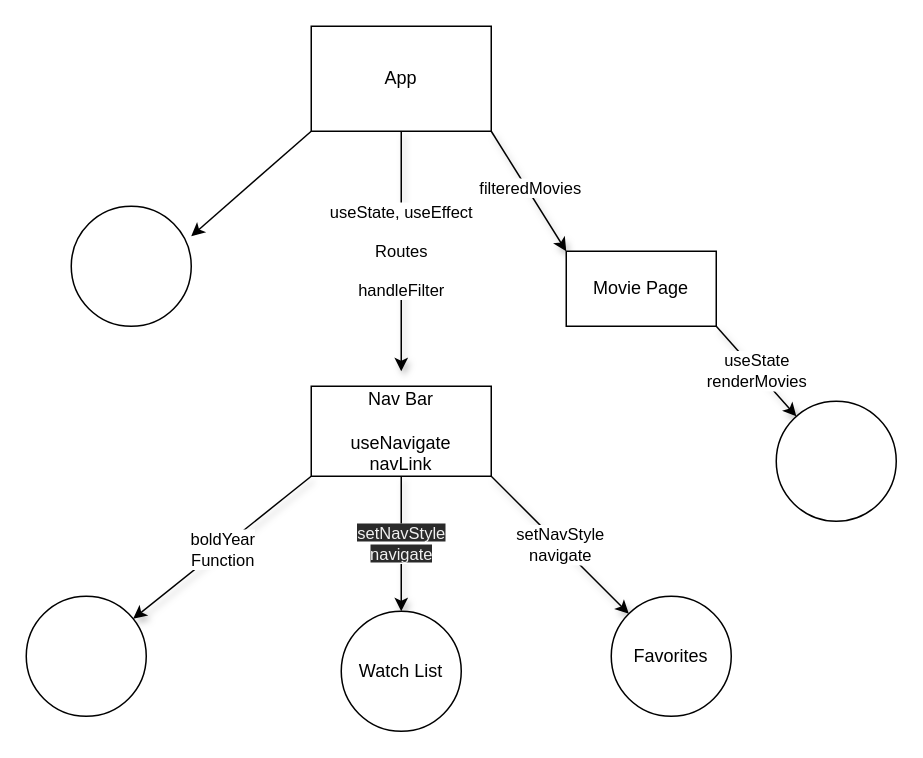
The diagram is 923 pixels wide and 758 high, and some of its shapes have lost their labels. The centre of each missing label's shape, as x and y in pixels:
Header: pixel 130 265
Movie Card: pixel 835 460
Years: pixel 85 655
